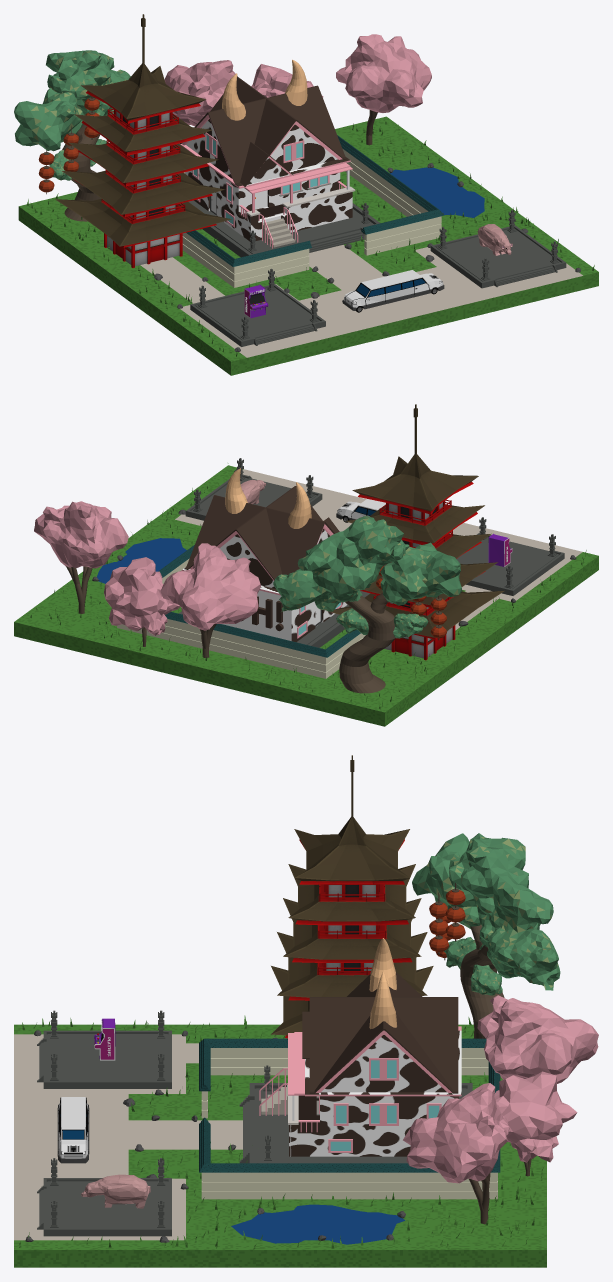
3 renders of one model, top to bottom at view 1: azimuth 30°, elevation 25°; view 2: azimuth 150°, elevation 25°; view 3: azimuth 270°, elevation 25°, orthographic. The views are drawn at different scales.
Parts seen in each view (by area): view 1: Cube.005, Cube.1242, VEHICLES_LIMOUSINE, ANIMAL_HIPOPOTAMO, OBJRANDOM_ARCADE; view 2: Cube.005, Cube.1242, VEHICLES_LIMOUSINE, OBJRANDOM_ARCADE; view 3: Cube.005, Cube.1242, VEHICLES_LIMOUSINE, ANIMAL_HIPOPOTAMO, OBJRANDOM_ARCADE.
Part boxes in pixels (x1,y1,x2,y2): Cube.005: (14, 14, 598, 375); Cube.1242: (179, 59, 355, 248); VEHICLES_LIMOUSINE: (342, 270, 444, 312); ANIMAL_HIPOPOTAMO: (477, 224, 512, 255); OBJRANDOM_ARCADE: (244, 284, 268, 318); Cube.005: (14, 404, 598, 726); Cube.1242: (181, 468, 347, 642); VEHICLES_LIMOUSINE: (336, 499, 385, 522); OBJRANDOM_ARCADE: (488, 533, 512, 566); Cube.005: (14, 755, 598, 1267); Cube.1242: (259, 938, 461, 1156); VEHICLES_LIMOUSINE: (57, 1097, 89, 1163); ANIMAL_HIPOPOTAMO: (81, 1174, 150, 1208); OBJRANDOM_ARCADE: (94, 1018, 115, 1060).
Bounding box in the file's own units: 4528 × 2668 × 4389.
51 materials, 5 textured.
